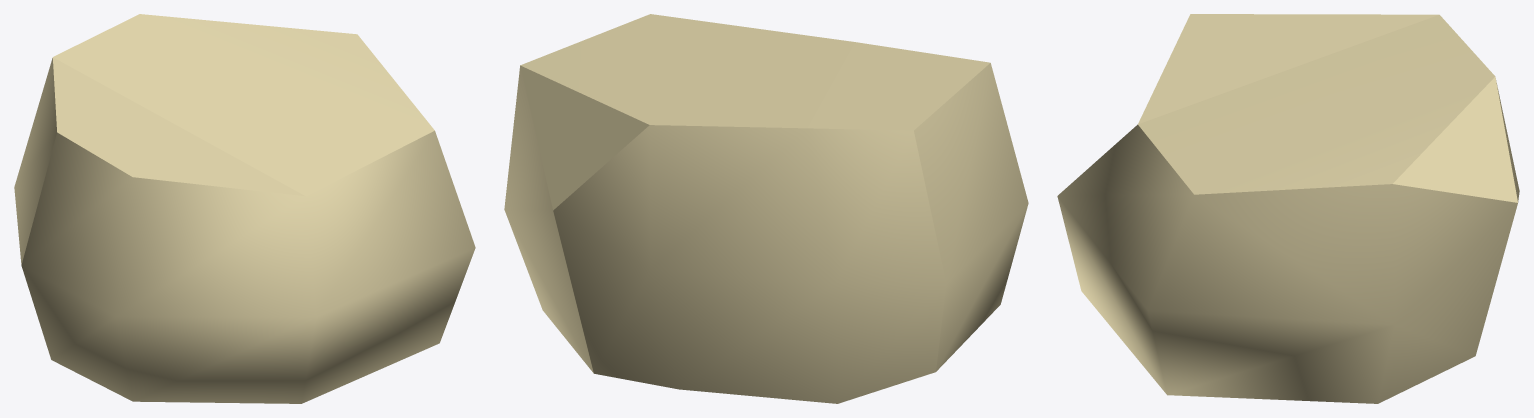
Rendered from rock5.fbx.
The picture shows the model from 3 angles, left to right: view 1: azimuth 30°, elevation 25°; view 2: azimuth 150°, elevation 25°; view 3: azimuth 270°, elevation 25°; orthographic projection. The views are drawn at different scales.
Visible parts, largest first — view 1: rock5; view 2: rock5; view 3: rock5.
Part boxes in pixels (x1,y1,x2,y2): rock5: [14, 14, 475, 403]; rock5: [504, 14, 1028, 403]; rock5: [1057, 14, 1519, 403].
Size of the model in its own units: 7.17 by 4.62 by 7.57.
